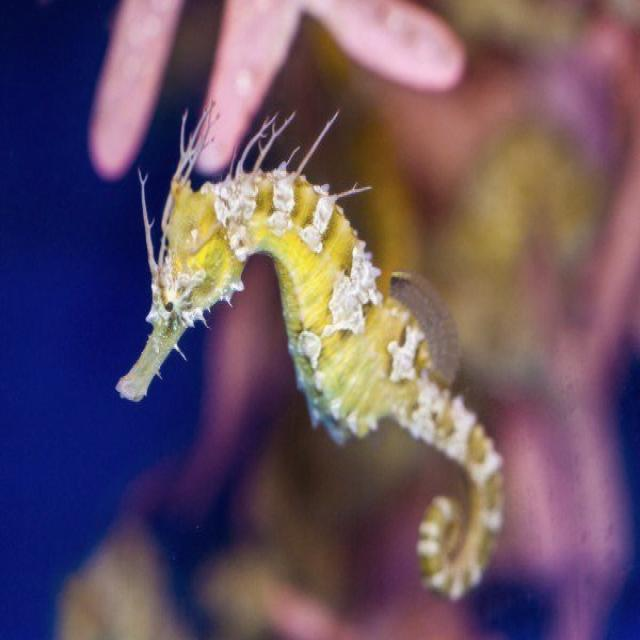seahorse: (117, 115, 502, 597)
